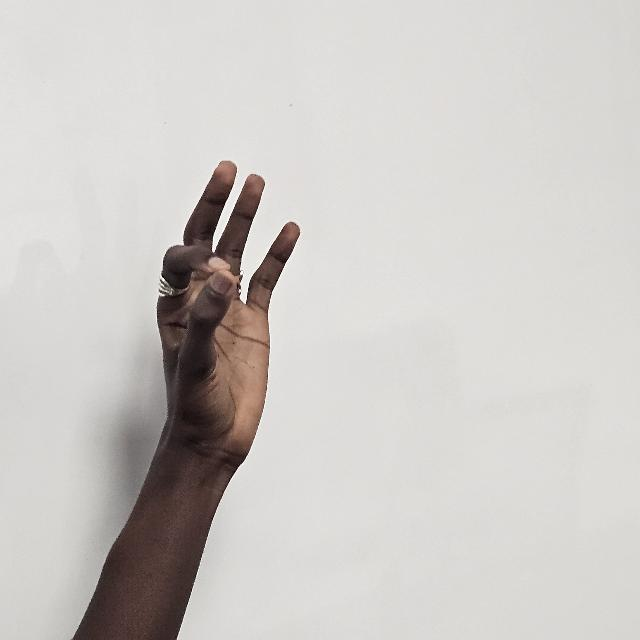Bolinha: (154, 155, 302, 471)
